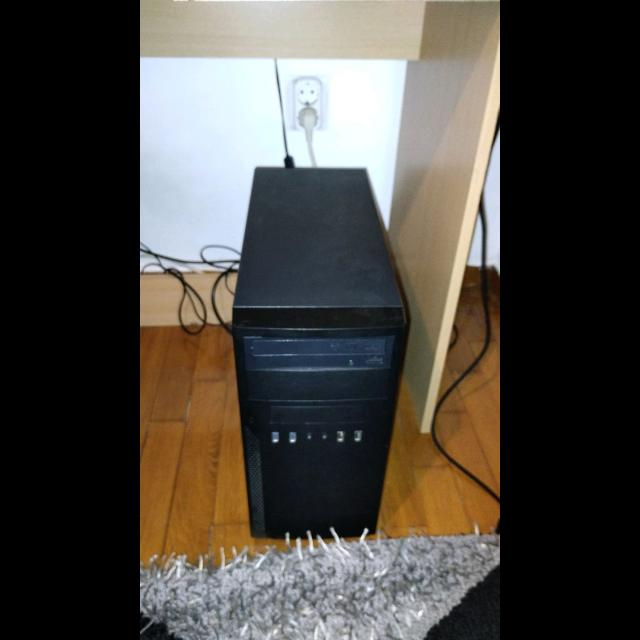Desktop-PC: (235, 166, 410, 538)
